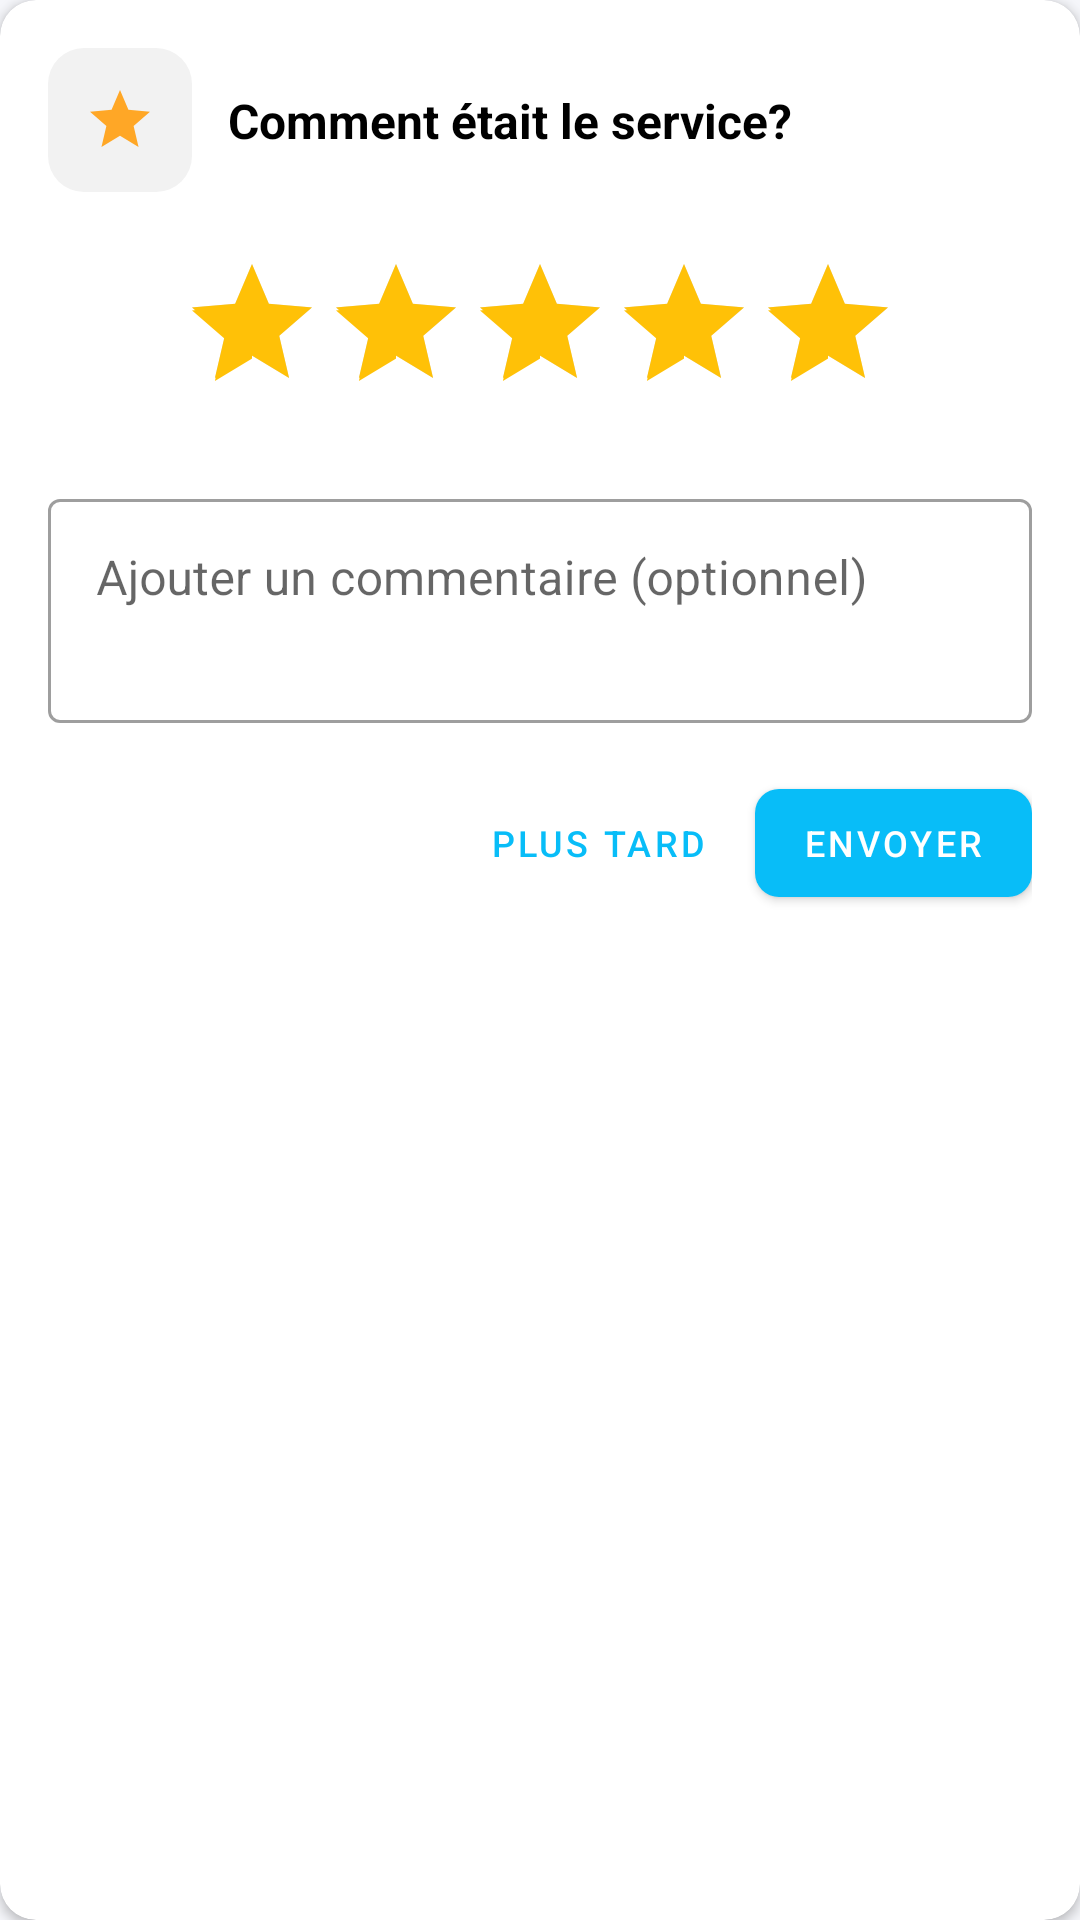

Icon bounding boxes for this 1080x1920 phone screenshot, format region(x1, y1, x2, y2):
star: region(48, 48, 192, 192)
